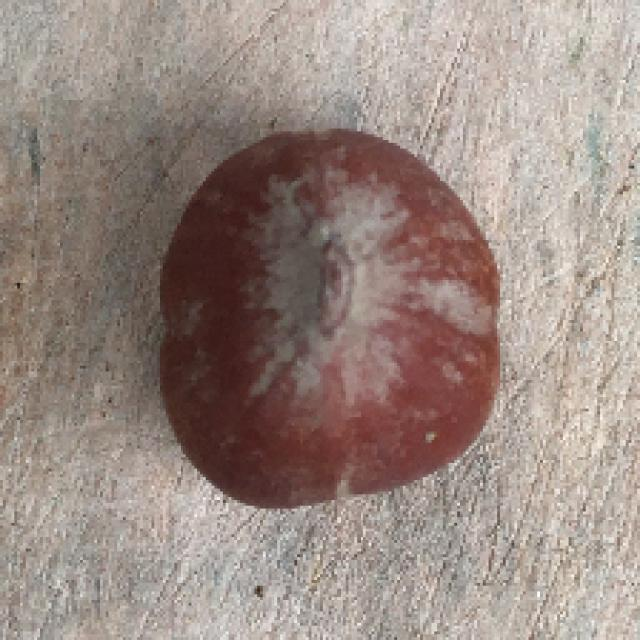qualityHazelnut: (156, 126, 509, 508)
